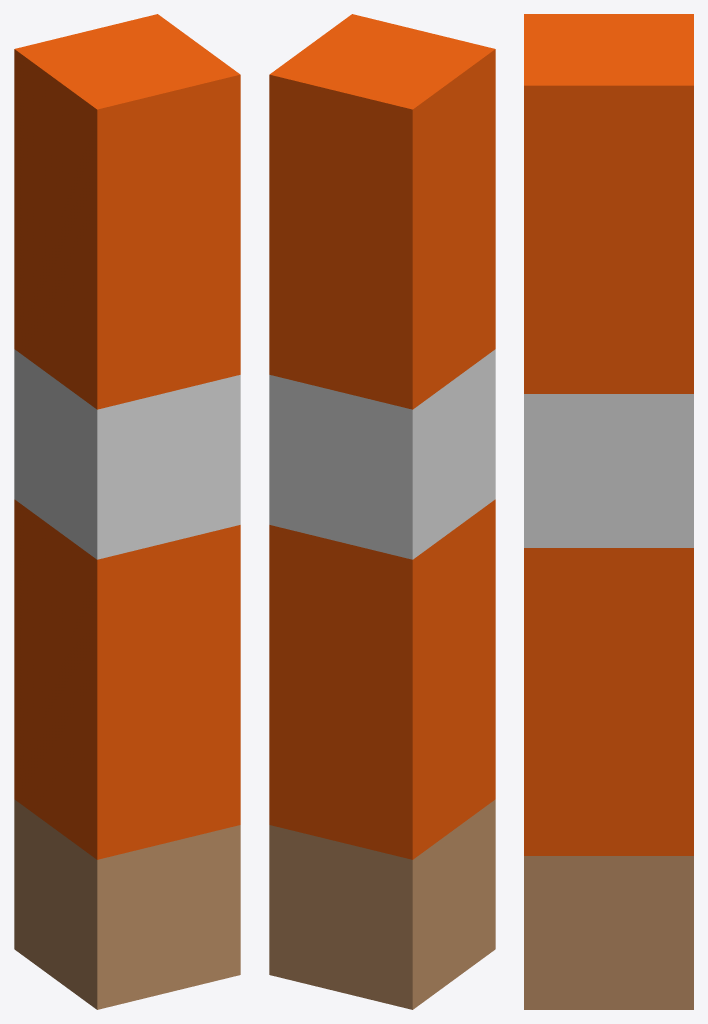
The model's file is arm2.obj.
3 renders of one model, left to right at view 1: azimuth 30°, elevation 25°; view 2: azimuth 150°, elevation 25°; view 3: azimuth 270°, elevation 25°, orthographic. The views are drawn at different scales.
Bounding box in the file's own units: 0.2 × 1.2 × 0.2.
1 material, 1 textured.
